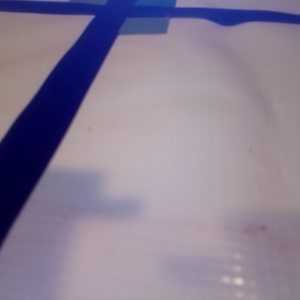bottom_right: (94, 6, 169, 34)
top_left: (68, 1, 130, 14)
top_right: (108, 1, 177, 16)
